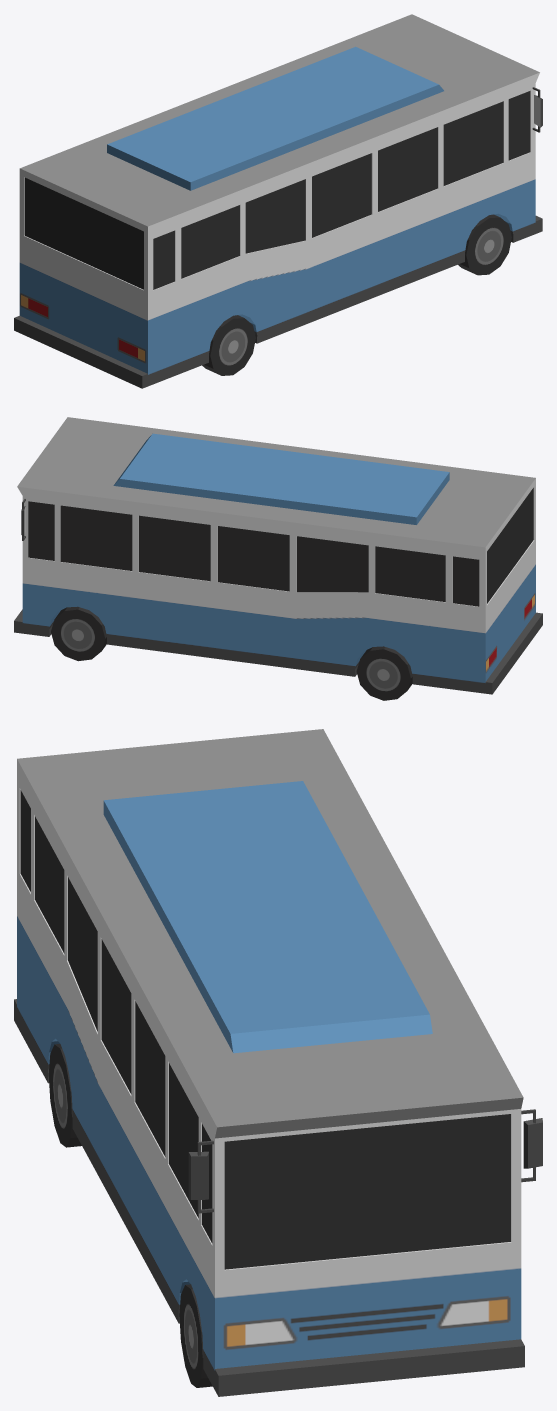
Rendered from Car2_Bus1.glb.
3 renders of one model, top to bottom at view 1: azimuth 30°, elevation 25°; view 2: azimuth 150°, elevation 25°; view 3: azimuth 270°, elevation 25°, orthographic. The views are drawn at different scales.
Parts seen in each view (by area): view 1: Vehicle_Bus_color01.001; view 2: Vehicle_Bus_color01.001; view 3: Vehicle_Bus_color01.001.
Boxes of the visible parts, x1,y1,x2,y2 form: Vehicle_Bus_color01.001: (14,14,542,388); Vehicle_Bus_color01.001: (14,417,542,700); Vehicle_Bus_color01.001: (14,729,542,1396).
Size of the model in its own units: 2.45 by 0.8946 by 1.35.
Materials: 1 (1 with a texture image).
